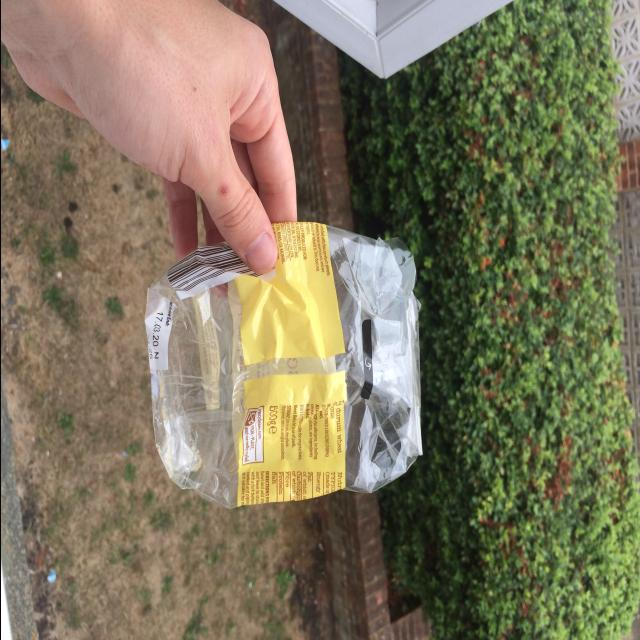Plastic film: (144, 222, 422, 509)
